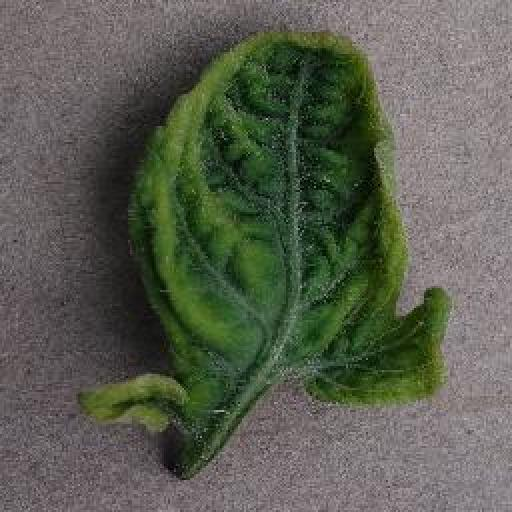disease_tomato: (122, 19, 451, 408)
